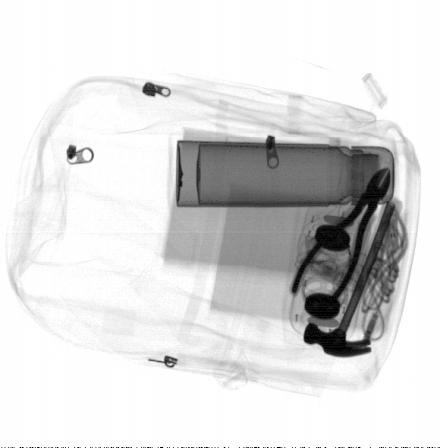Hammer: (304, 191, 404, 358)
Pliers: (289, 166, 390, 304)
